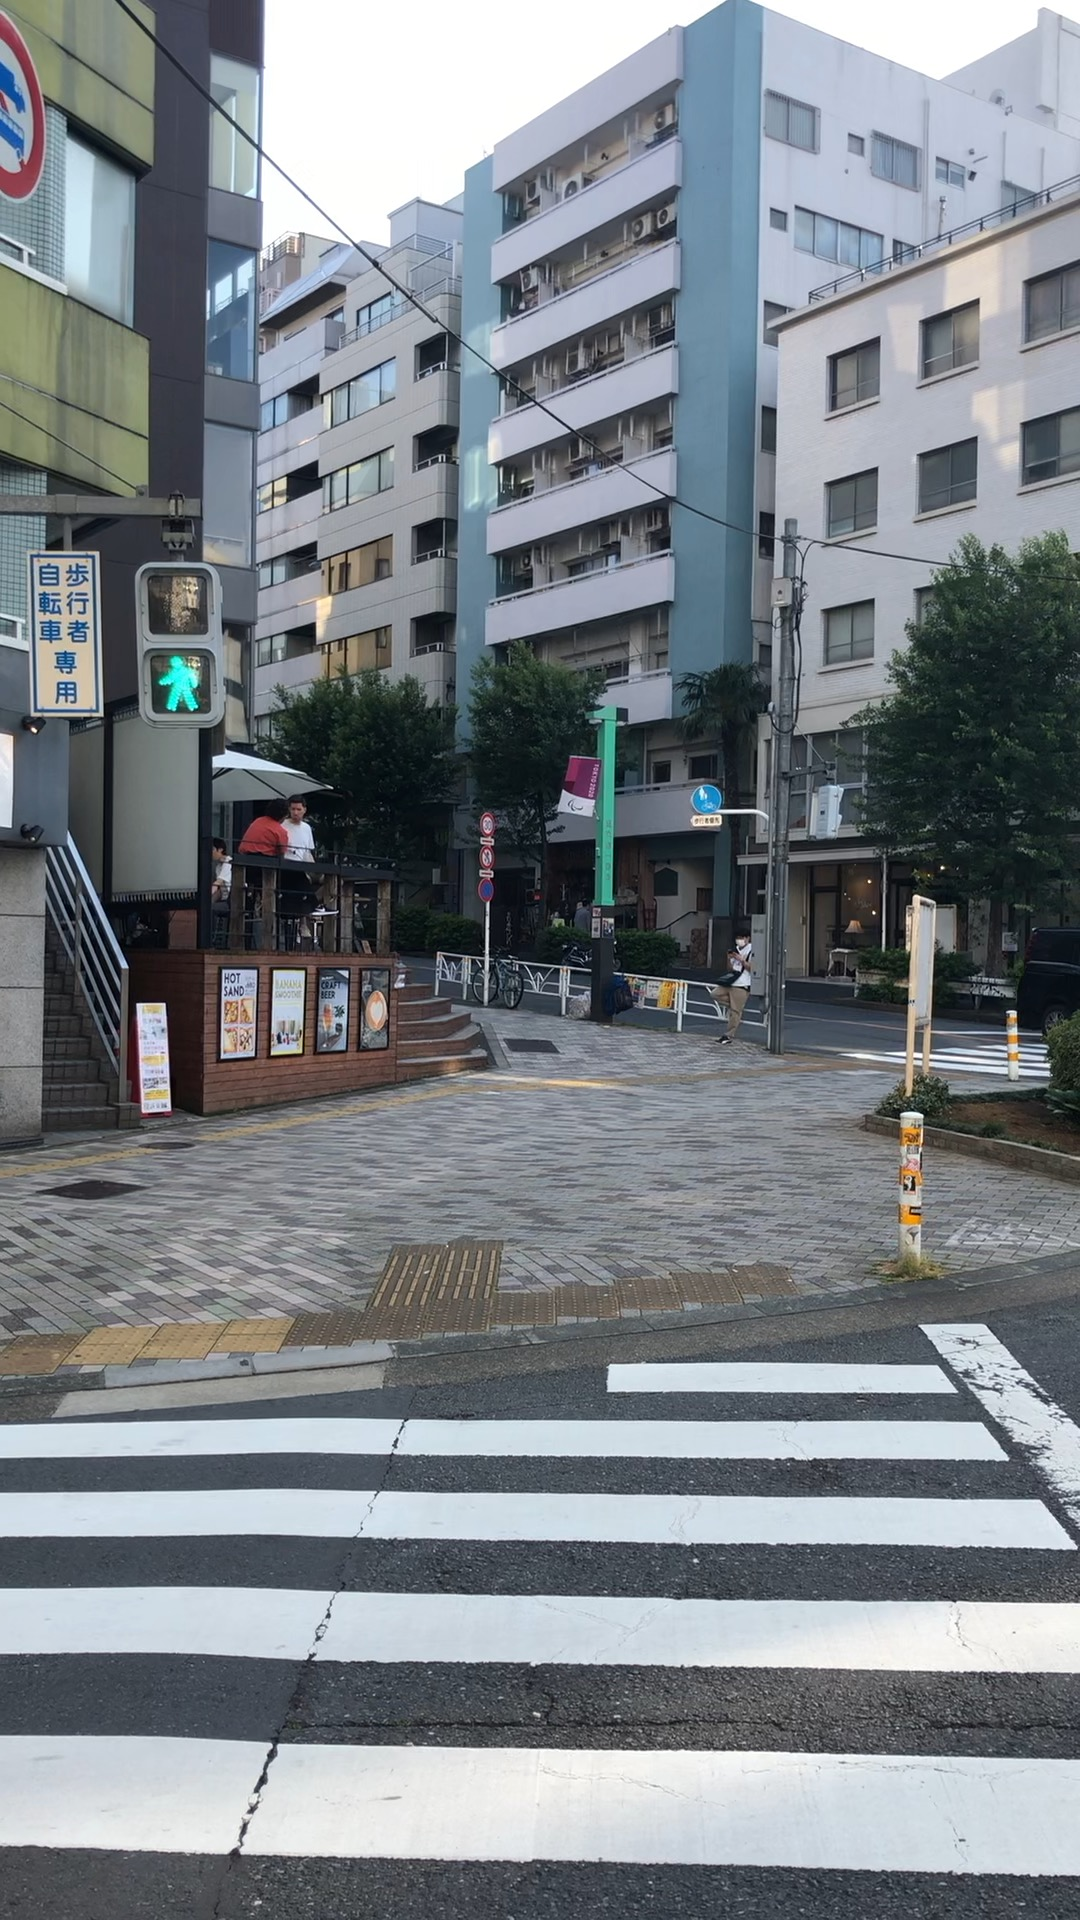green: (135, 560, 225, 727)
